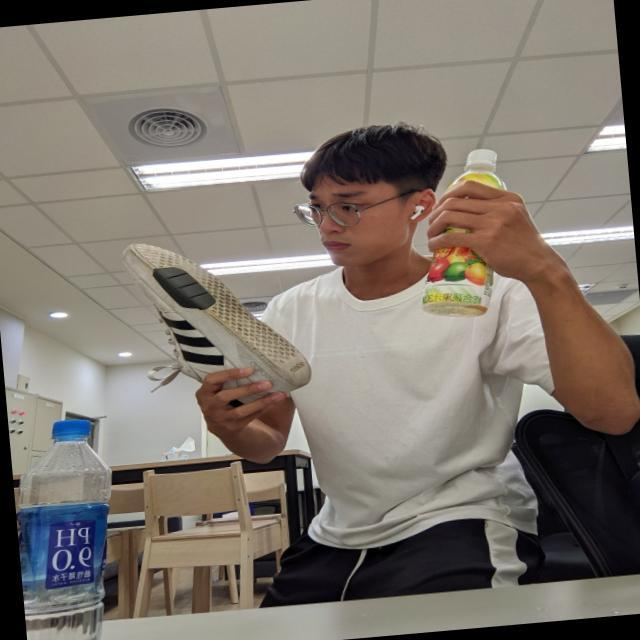good: (12, 408, 139, 640), (394, 140, 525, 322)
